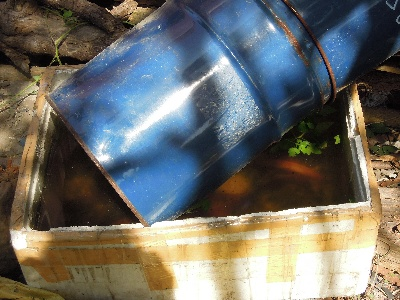bucket: (44, 1, 399, 224)
styrofoam: (8, 62, 383, 299)
